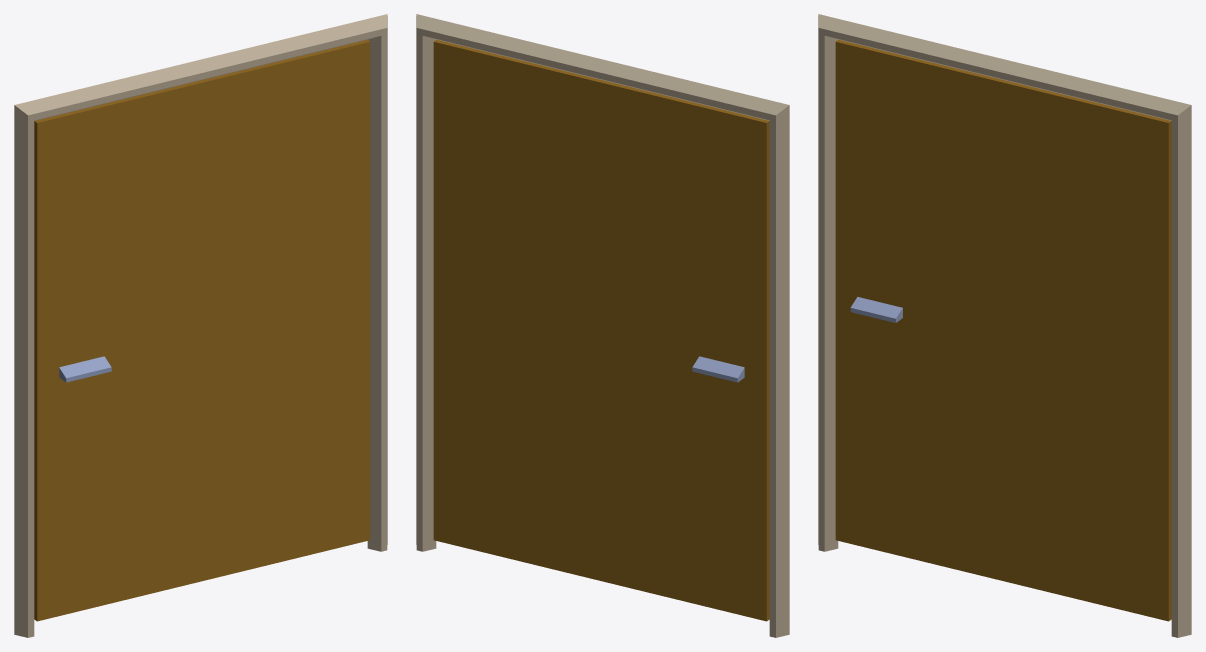
File: door_inside.fbx
3 renders of one model, left to right at view 1: azimuth 30°, elevation 25°; view 2: azimuth 150°, elevation 25°; view 3: azimuth 330°, elevation 25°, orthographic.
Parts seen in each view (by area): view 1: door_inside; view 2: door_inside; view 3: door_inside.
Boxes of the visible parts, x1,y1,x2,y2 form: door_inside: (14,14,387,637); door_inside: (416,14,789,637); door_inside: (818,14,1191,637).
Bounding box in the file's own units: 150 × 203 × 13.69.
